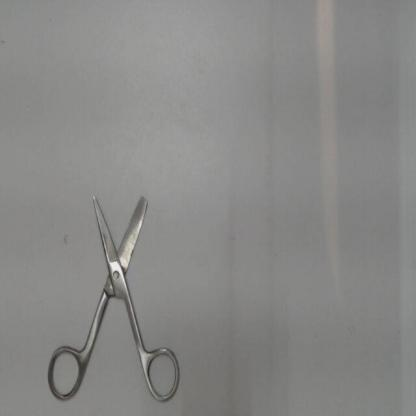Dressing Scissors: (38, 173, 186, 411)
